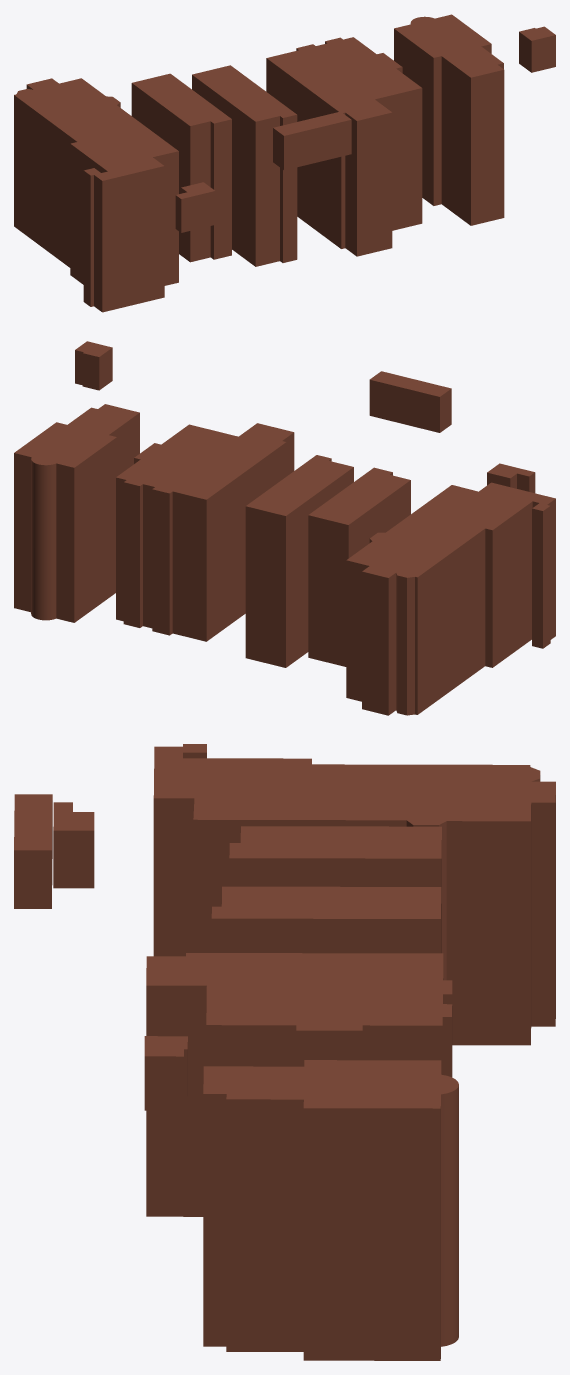
The model's file is basic_buildings_633_3.fbx.
3 views of the same model, one above another, from view 1: azimuth 30°, elevation 25°; view 2: azimuth 150°, elevation 25°; view 3: azimuth 270°, elevation 25° (orthographic). The views are drawn at different scales.
Visible parts, largest first — view 1: Model; view 2: Model; view 3: Model.
Part boxes in pixels (bbox=[...]): Model: bbox=[14, 14, 555, 312]; Model: bbox=[14, 341, 555, 715]; Model: bbox=[14, 744, 555, 1360].
Size of the model in its own units: 3147 by 1256 by 1910.
